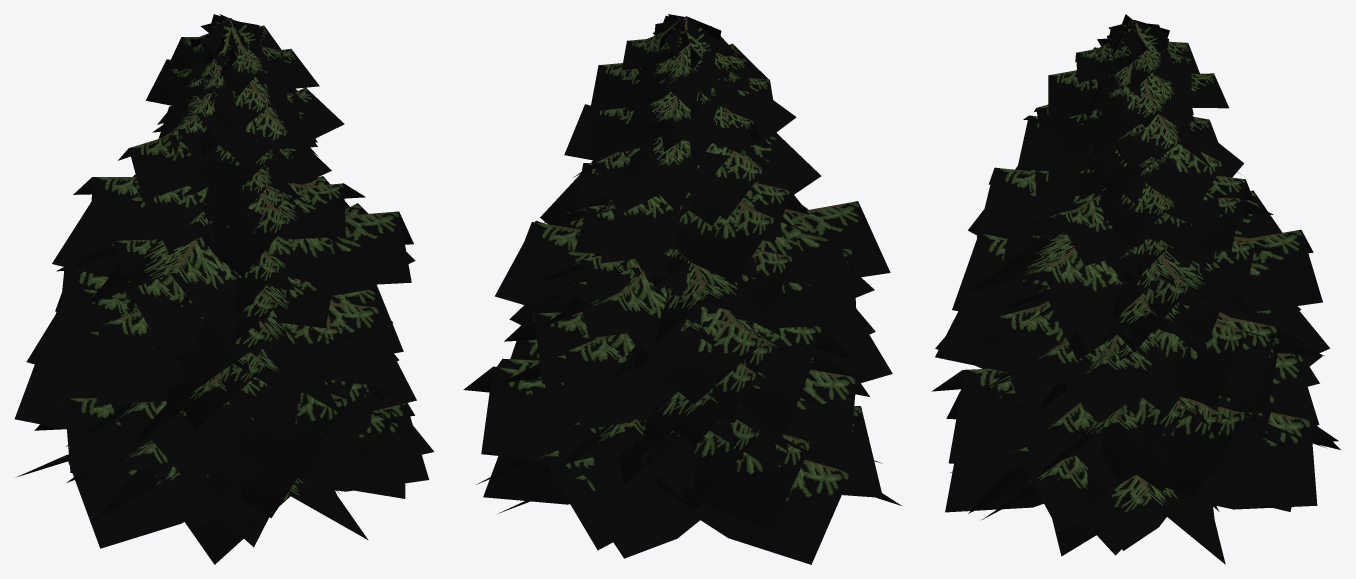
The model's file is FirTree.fbx.
3 views of the same model, side by side, from view 1: azimuth 30°, elevation 25°; view 2: azimuth 150°, elevation 25°; view 3: azimuth 270°, elevation 25° (orthographic). The views are drawn at different scales.
Visible parts, largest first — view 1: FirTree; view 2: FirTree; view 3: FirTree.
Boxes of the visible parts, x1,y1,x2,y2 form: FirTree: (14,14,433,564); FirTree: (463,14,901,564); FirTree: (931,14,1340,564).
Bounding box in the file's own units: 421 × 509 × 398.
